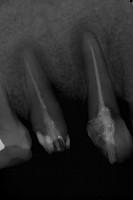Furcation Involvement: (9, 36, 55, 80), (69, 17, 89, 82)
